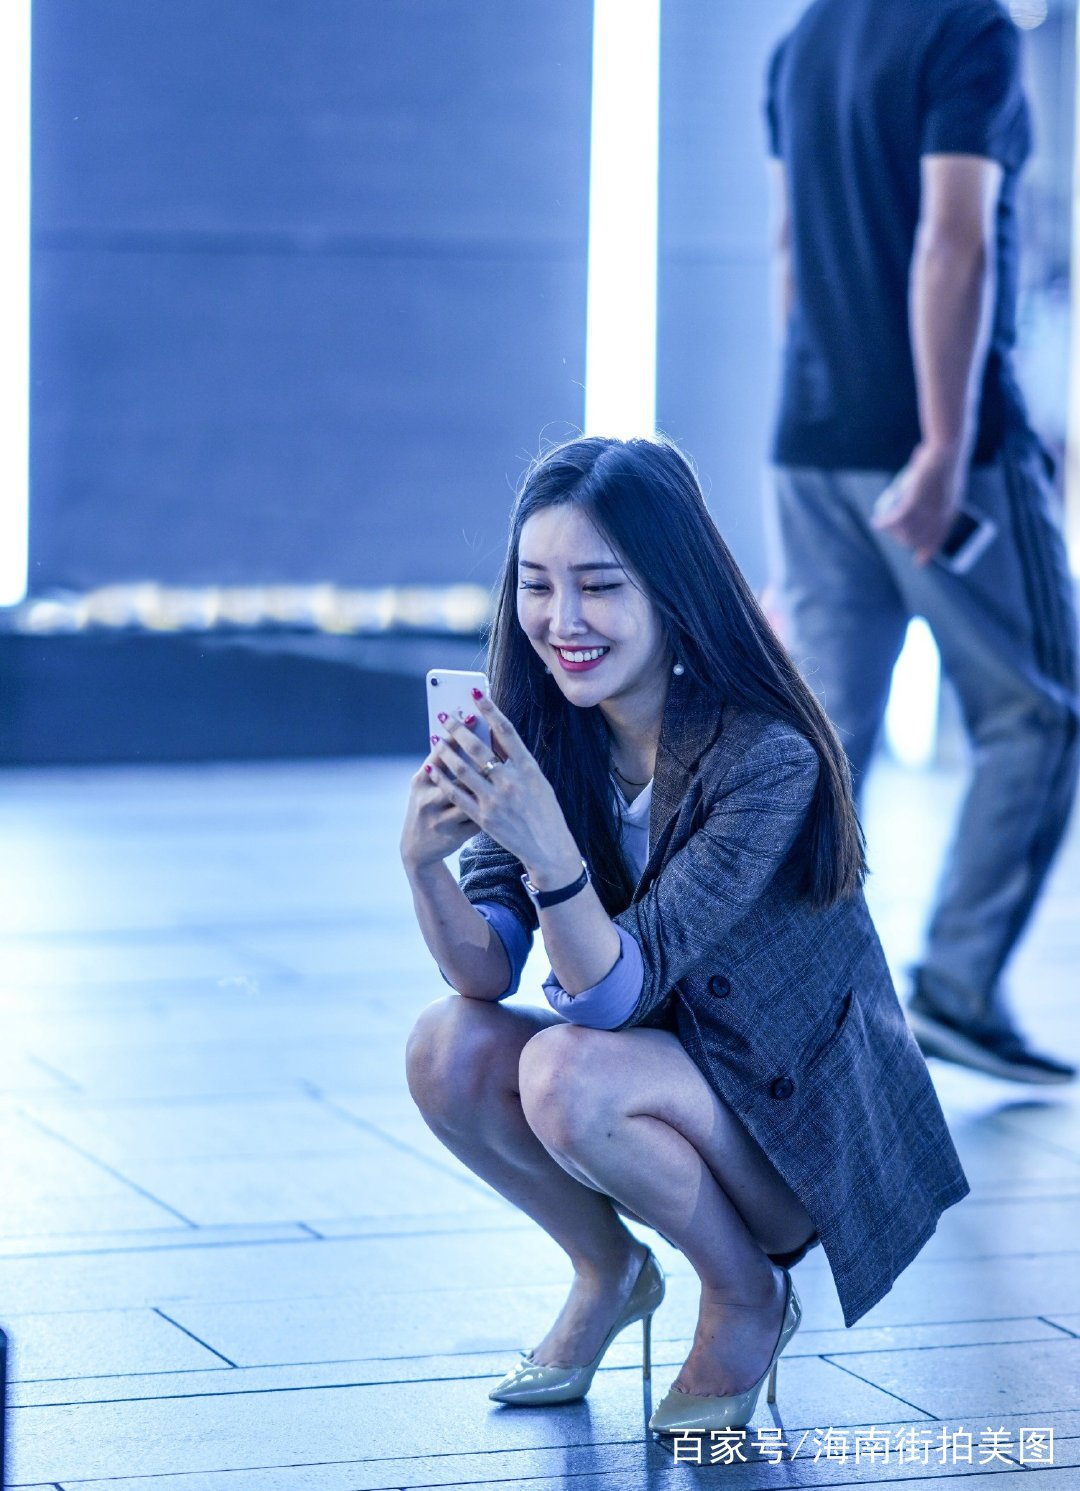person: (336, 444, 1031, 1258)
